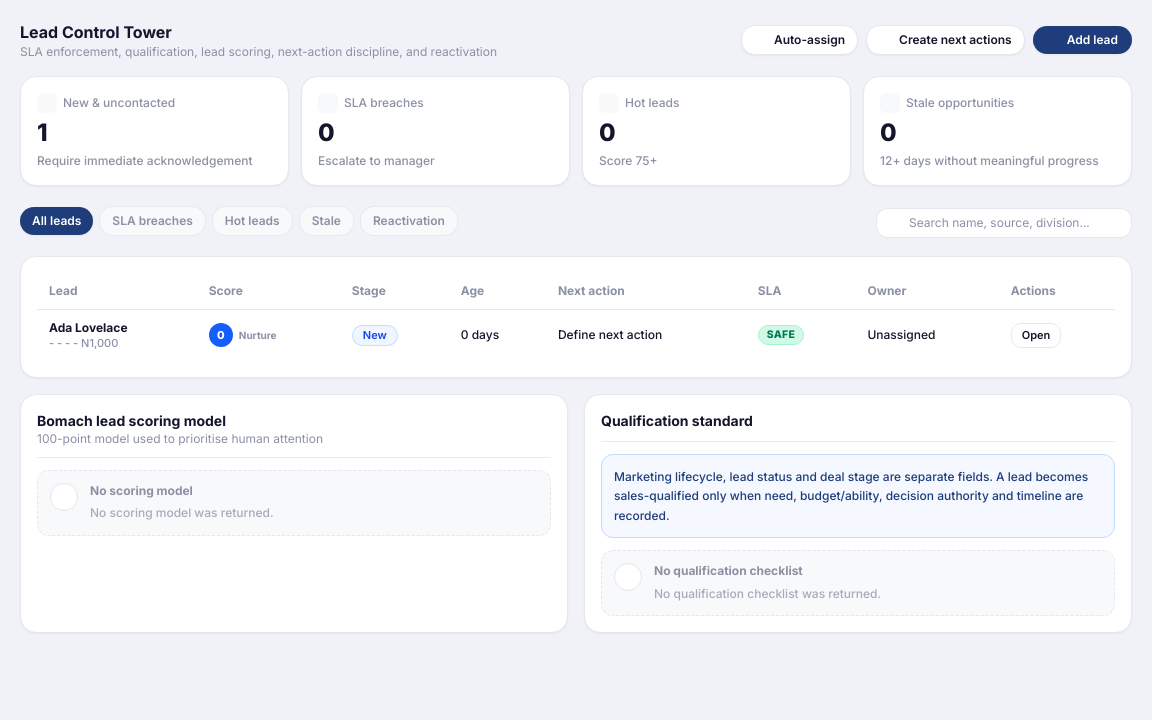
LeadControlPage › retains the last successful lead rows when a refresh fails
Expected: the text "Ada Lovelace" is shown, [49,320,128,335]
Type "x" into the field with placeholder "Search name, source, division...".
click(1004, 223); type("x")  # box [876,208,1132,238]
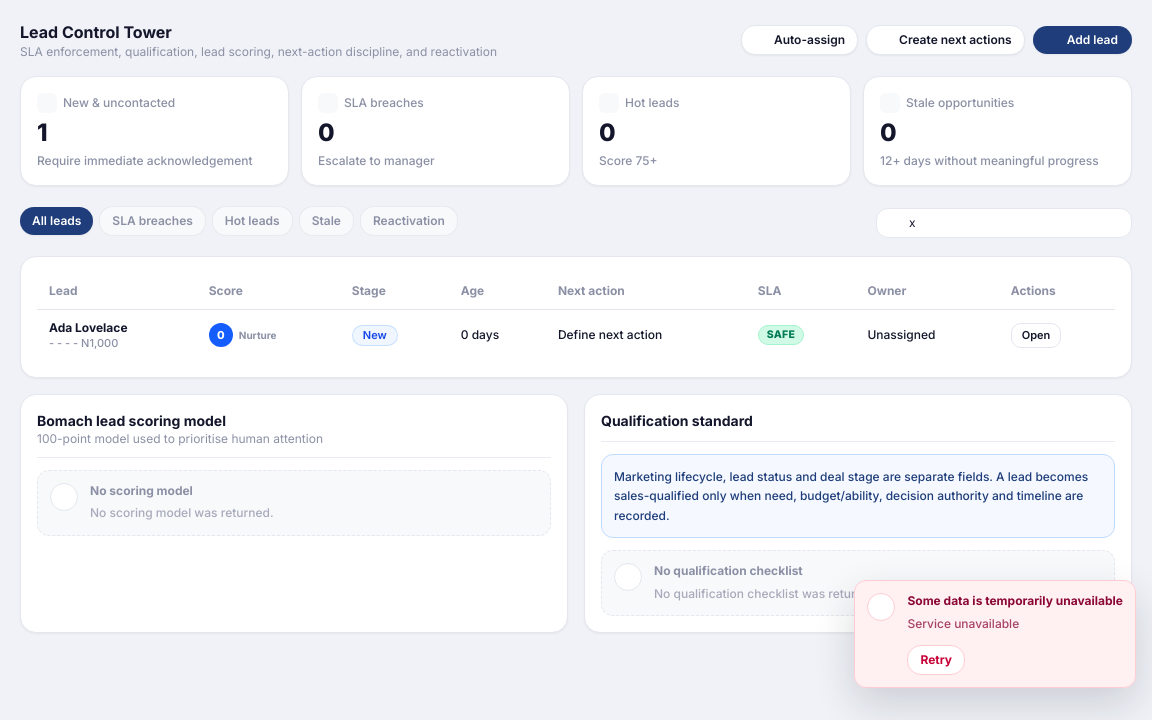
Expected: the text "Ada Lovelace" is shown, [49,320,128,335]
Now the text "Service unavailable" is shown, box [907,616,1019,630]
